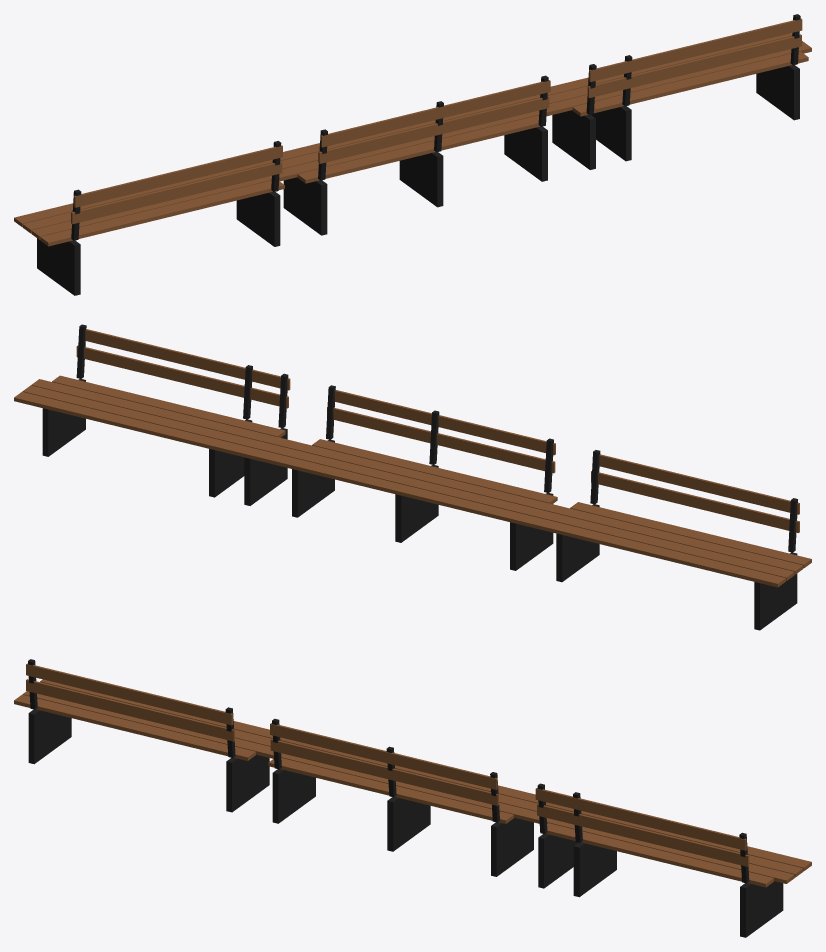
3 renders of one model, top to bottom at view 1: azimuth 30°, elevation 25°; view 2: azimuth 150°, elevation 25°; view 3: azimuth 330°, elevation 25°, orthographic.
Parts seen in each view (by area): view 1: parametric-variant-bench-3rd-a89b493707af040ac2de; view 2: parametric-variant-bench-3rd-a89b493707af040ac2de; view 3: parametric-variant-bench-3rd-a89b493707af040ac2de.
Boxes of the visible parts, box(x1,y1,x2,y2) form: parametric-variant-bench-3rd-a89b493707af040ac2de: box(14, 14, 811, 295); parametric-variant-bench-3rd-a89b493707af040ac2de: box(14, 324, 811, 630); parametric-variant-bench-3rd-a89b493707af040ac2de: box(14, 659, 811, 937).
Size of the model in its own units: 6.6 by 0.85 by 0.6174.
